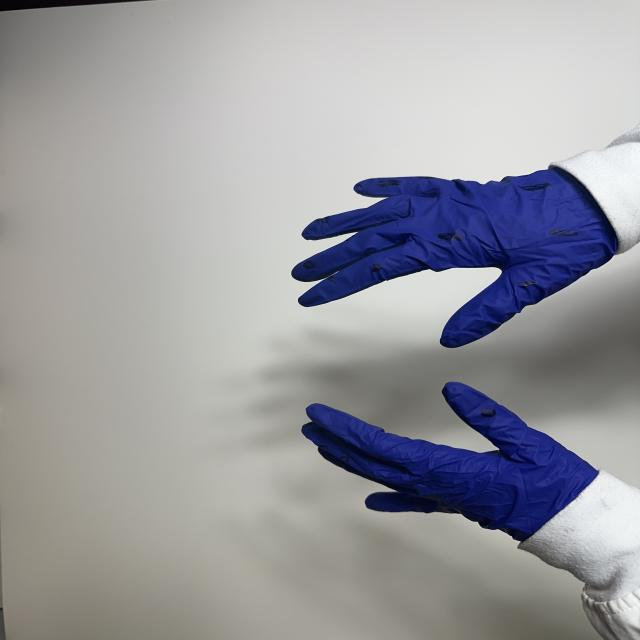gloves_contaminated: (288, 161, 617, 350), (300, 377, 604, 556)
